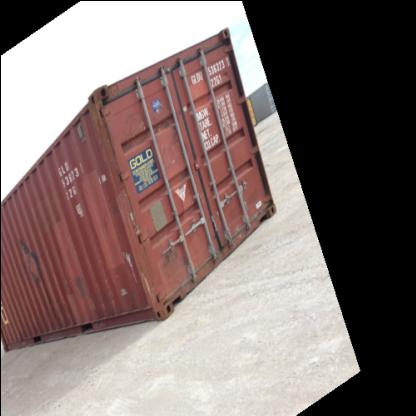Damage: (14, 233, 44, 284), (84, 270, 113, 312), (159, 126, 189, 166), (46, 304, 78, 330), (121, 198, 144, 230), (156, 240, 180, 264), (90, 164, 110, 190), (138, 272, 154, 296), (119, 246, 135, 270), (116, 284, 132, 302), (72, 200, 84, 223)
